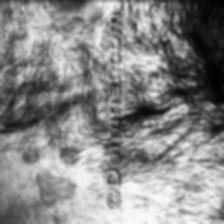Toxin: (127, 144, 197, 196), (171, 162, 212, 224), (34, 169, 78, 210), (48, 0, 104, 26), (59, 128, 83, 162)
